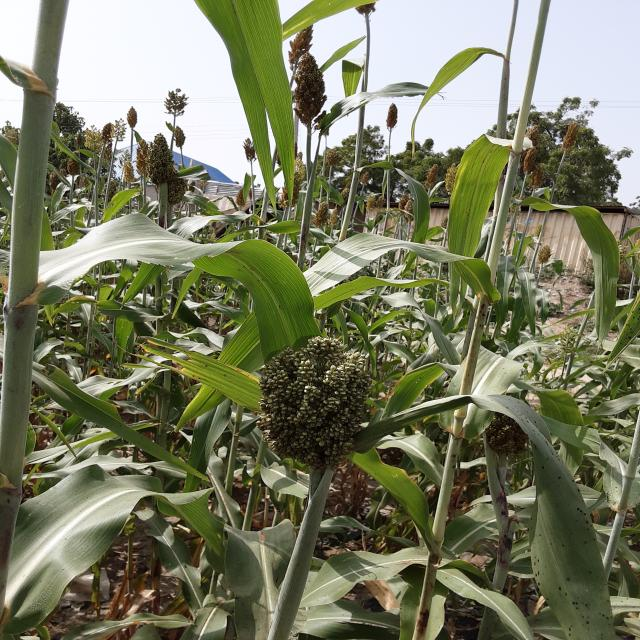UnripeSorghum: (249, 322, 390, 477)
